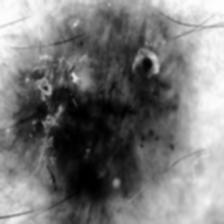Potentially Malignant Skin Tumors: (0, 0, 190, 222)
